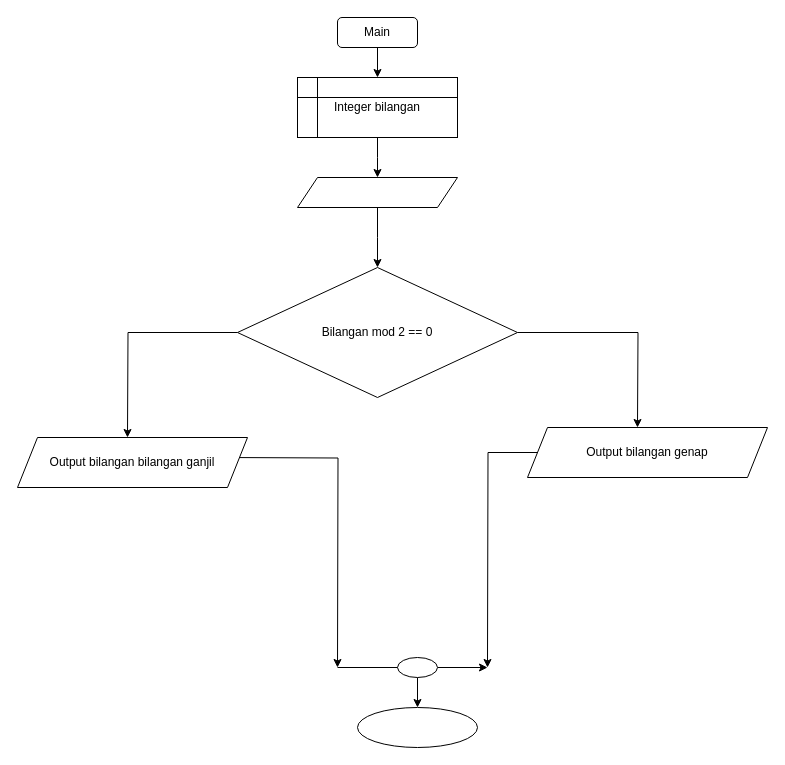
This 785x765 diagram has some shape labels left out. Here are the shapes that lost their labels. From the top down, the box of each, then its label:
(296, 176, 458, 208): Input bilangan
(356, 706, 478, 748): End
